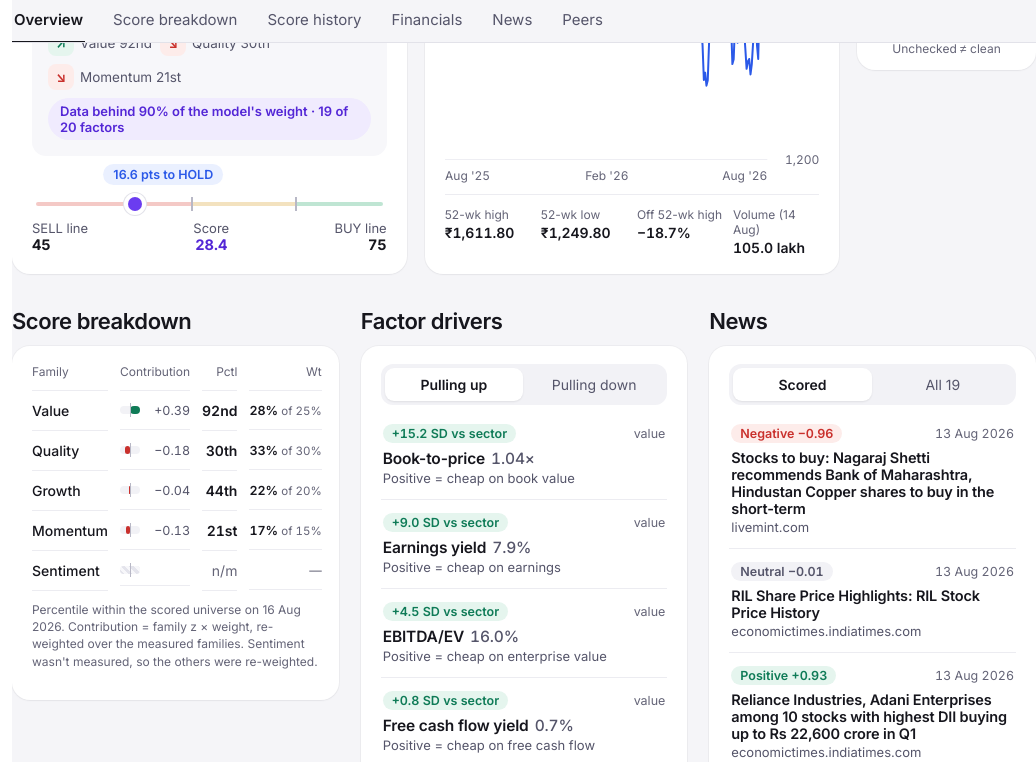
Test: RELIANCE lower sections › news: scored first, unscored items labelled
(page scrolled)
Expected: the text "Not scored yet" is not shown
Step 1. Click the button "All 19" → [943, 384], box 874,368 -> 1012,400
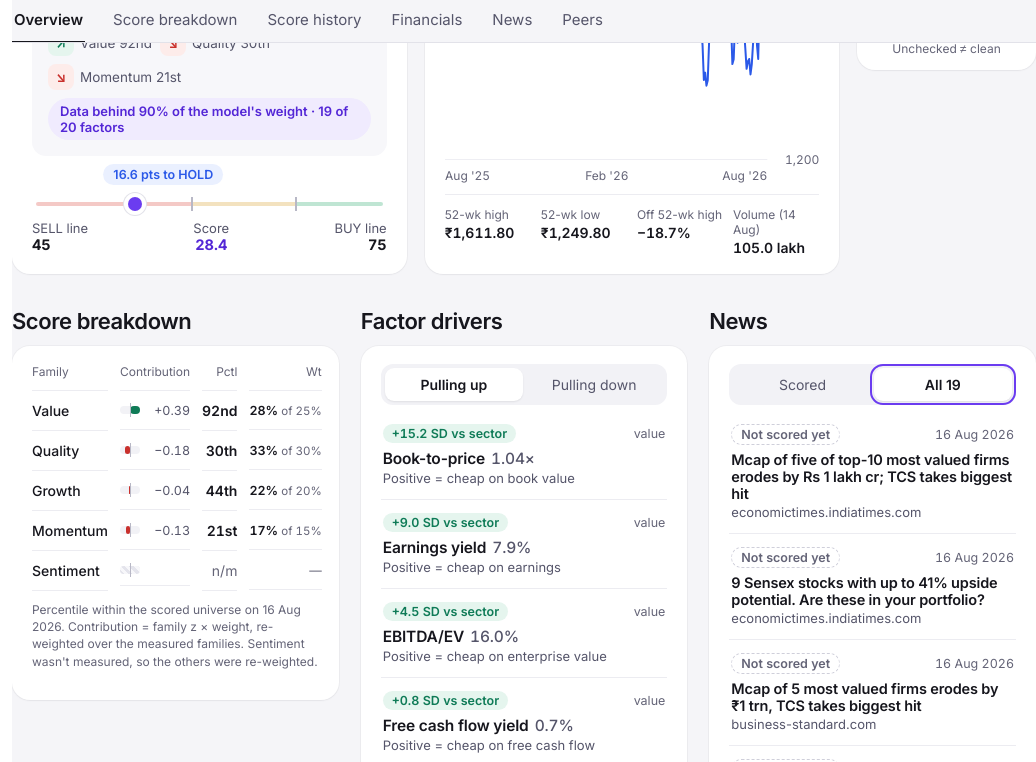
Result: the 1st text "Not scored yet" is shown at 731,424 -> 840,444
